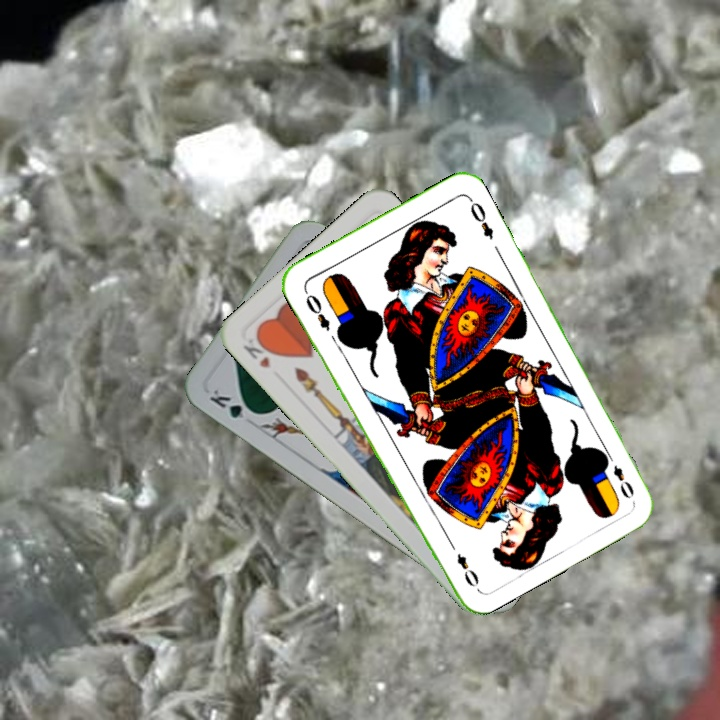EO: (601, 448, 637, 502), (300, 285, 333, 334)
GK: (205, 385, 261, 424)
HK: (239, 331, 278, 371)
